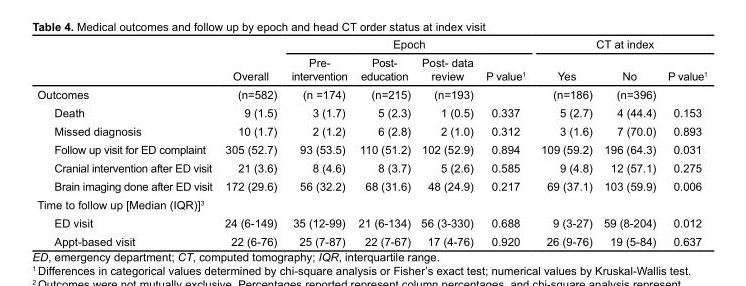table: (36, 37, 706, 247)
table column: (36, 37, 217, 247), (283, 37, 352, 247), (217, 37, 283, 247), (532, 37, 597, 247), (415, 37, 479, 247), (597, 37, 661, 247), (352, 37, 415, 247), (479, 37, 532, 247), (661, 37, 706, 247)
table column header: (36, 37, 706, 84)
table projected row header: (36, 195, 706, 213)
table row: (36, 52, 706, 84), (36, 84, 706, 103), (36, 139, 706, 158), (36, 176, 706, 195), (36, 103, 706, 121), (36, 121, 706, 139), (36, 158, 706, 176), (36, 195, 706, 213), (36, 213, 706, 231), (36, 231, 706, 247), (36, 37, 706, 52)
table spanning cell: (283, 37, 532, 52), (217, 37, 283, 84), (532, 37, 706, 52)
